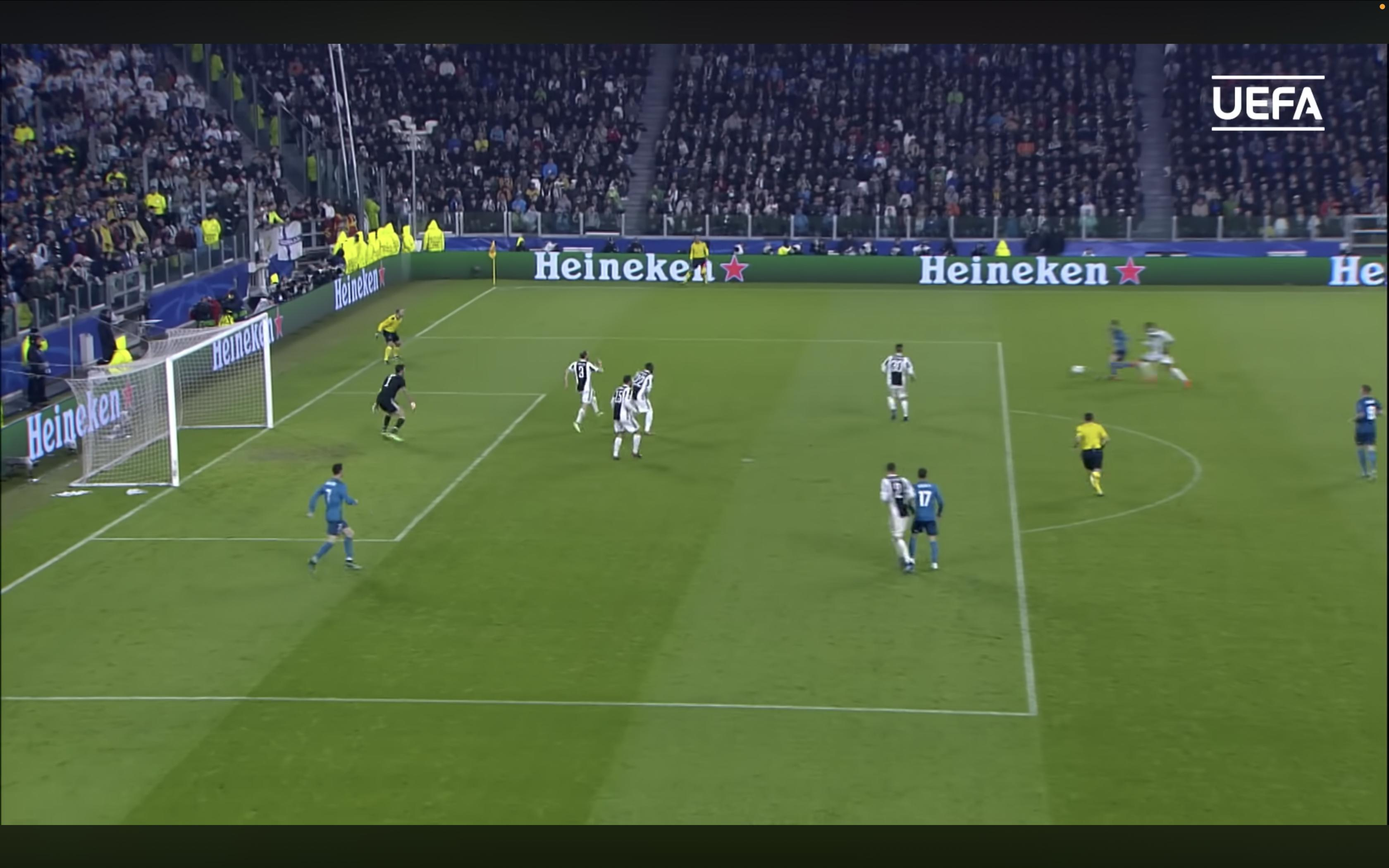ball: (1070, 365, 1086, 374)
goalkeeper: (373, 365, 408, 441)
player: (308, 463, 360, 572), (880, 463, 914, 572), (909, 469, 944, 570), (1139, 322, 1191, 387), (563, 351, 603, 432), (1352, 385, 1382, 479), (611, 375, 642, 460), (881, 345, 914, 422), (1109, 320, 1137, 379), (632, 362, 654, 434)
referee: (1074, 413, 1109, 496), (377, 309, 405, 363), (685, 236, 711, 282)
